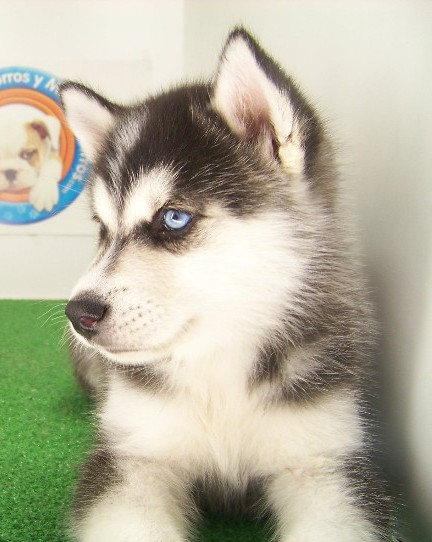husky: (32, 13, 398, 542)
